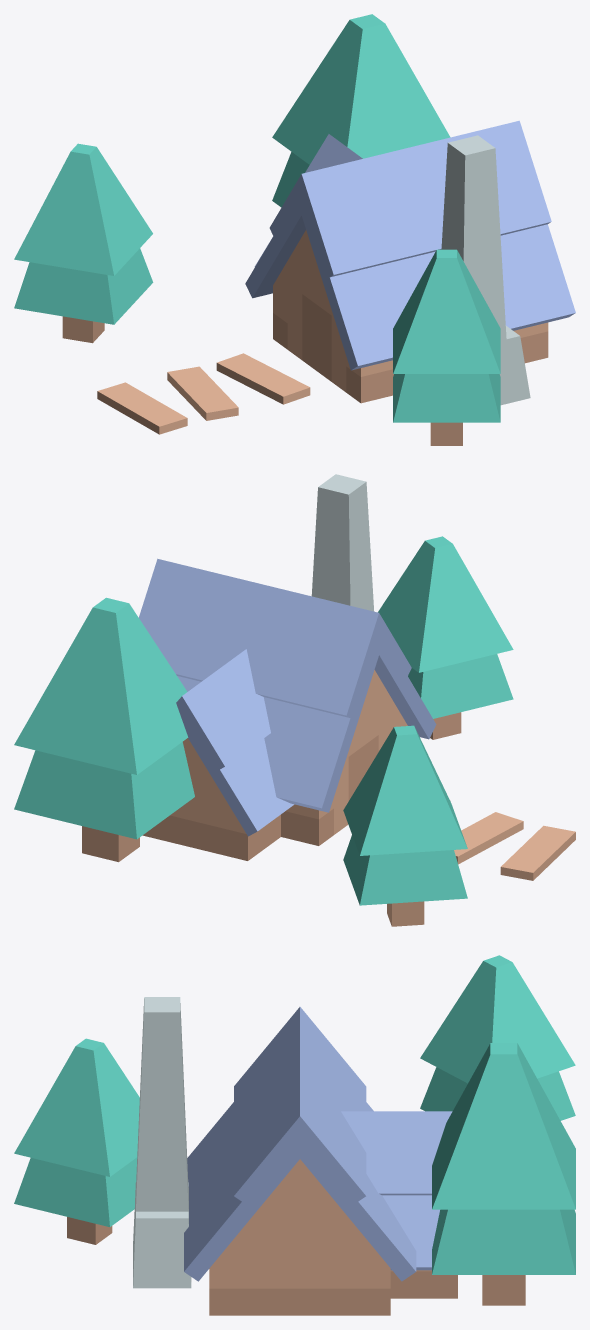
Rendered from Houselvl3.fbx.
3 renders of one model, top to bottom at view 1: azimuth 30°, elevation 25°; view 2: azimuth 150°, elevation 25°; view 3: azimuth 270°, elevation 25°, orthographic. The views are drawn at different scales.
Visible parts, largest first — view 1: Cabin, tree.002, tree, tree.001, Chimney, Path; view 2: Cabin, tree.001, tree.002, tree, Chimney, Path; view 3: Cabin, tree.001, tree, Chimney, tree.002.
Boxes of the visible parts, bbox=[...] form: Cabin: bbox=[245, 120, 575, 403]; tree.002: bbox=[14, 143, 153, 343]; tree: bbox=[393, 249, 500, 445]; tree.001: bbox=[272, 14, 450, 207]; Chimney: bbox=[441, 135, 530, 405]; Path: bbox=[97, 353, 310, 434]; Cabin: bbox=[139, 558, 436, 860]; tree.001: bbox=[14, 597, 194, 862]; tree.002: bbox=[343, 725, 467, 926]; tree: bbox=[378, 536, 513, 739]; Chimney: bbox=[311, 474, 374, 611]; Path: bbox=[454, 812, 575, 880]; Cabin: bbox=[184, 1007, 457, 1315]; tree.001: bbox=[432, 1043, 575, 1305]; tree: bbox=[14, 1038, 139, 1244]; Chimney: bbox=[133, 997, 191, 1288]; tree.002: bbox=[420, 955, 575, 1120].
Bounding box in the file's own units: 68.23 × 40 × 78.04.
